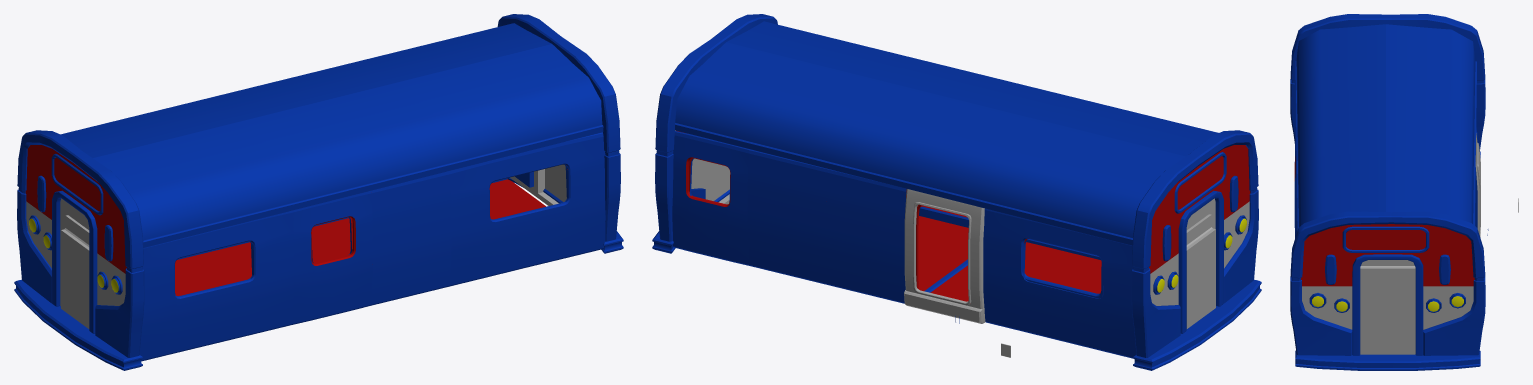
Rendered from Proto.fbx.
3 views of the same model, side by side, from view 1: azimuth 30°, elevation 25°; view 2: azimuth 150°, elevation 25°; view 3: azimuth 270°, elevation 25° (orthographic). The views are drawn at different scales.
Parts seen in each view (by area): view 1: polySurface91, Asset_devant2, Module_murext4x4_low8, Module_murext4x4_low7, module_murext4x4_low3, Module_murext2x4_low5, pCube57, pCube54, pCube55, pCube46, pCube53; view 2: polySurface91, Asset_devant2, Module_murext4x4_low9, module_murext4x4_low8, module_murext4x4_low7, Module_murext2x4_low6, pCube54, module_murext4x2_low11, pCube57, pCube55, pCube53; view 3: polySurface91, Asset_devant2, pCube53, module_murext4x2_low11.
Part boxes in pixels (<box>): polySurface91: <box>60,23,603,247</box>; Asset_devant2: <box>14,14,623,370</box>; Module_murext4x4_low8: <box>448,132,605,286</box>; Module_murext4x4_low7: <box>139,210,293,361</box>; module_murext4x4_low3: <box>370,171,451,305</box>; Module_murext2x4_low5: <box>291,190,372,324</box>; pCube57: <box>60,198,89,328</box>; pCube54: <box>194,218,350,283</box>; pCube55: <box>175,256,231,296</box>; pCube46: <box>489,179,545,219</box>; pCube53: <box>510,164,566,205</box>; polySurface91: <box>675,21,1218,245</box>; Asset_devant2: <box>652,14,1261,370</box>; Module_murext4x4_low9: <box>983,208,1136,358</box>; module_murext4x4_low8: <box>747,149,828,285</box>; module_murext4x4_low7: <box>826,169,906,303</box>; Module_murext2x4_low6: <box>672,131,749,265</box>; pCube54: <box>918,217,1081,301</box>; module_murext4x2_low11: <box>904,189,985,323</box>; pCube57: <box>1186,198,1215,328</box>; pCube55: <box>1047,255,1101,293</box>; pCube53: <box>675,130,730,204</box>; polySurface91: <box>1294,24,1476,231</box>; Asset_devant2: <box>1290,14,1485,370</box>; pCube53: <box>1360,260,1415,354</box>; module_murext4x2_low11: <box>1475,133,1480,237</box>.
Size of the model in its own units: 13.22 by 4.25 by 5.92.
